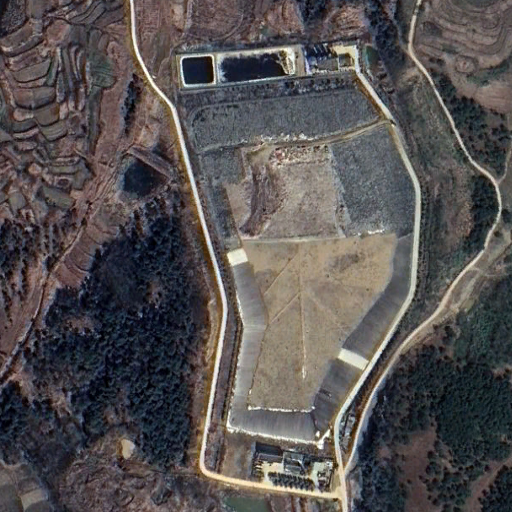lf: (174, 83, 415, 443)
